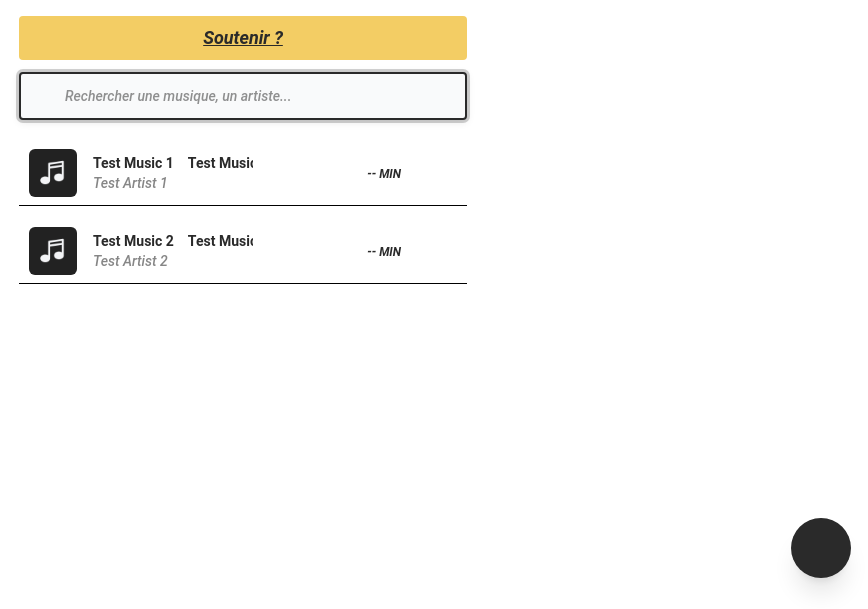
Scenario: MusicPage › devrait afficher un message quand aucune musique n'est trouvée
This screenshot has width=868, height=609.
Type "Musique inexistante" into the search field with test id "music-searchbar-input". click: [259, 96]
box: [65,74,453,118]
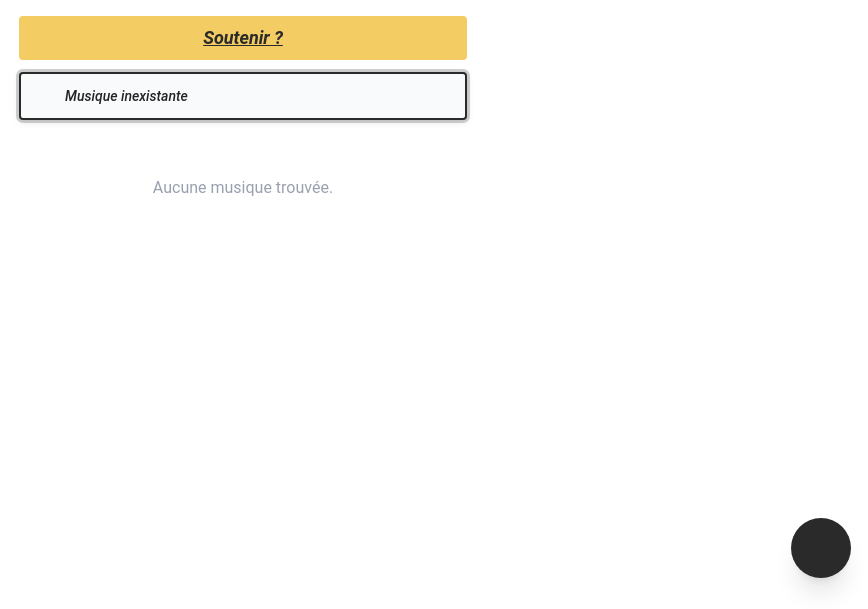
Expected: the text "Aucune musique trouvée." is shown, [153,178,333,197]
